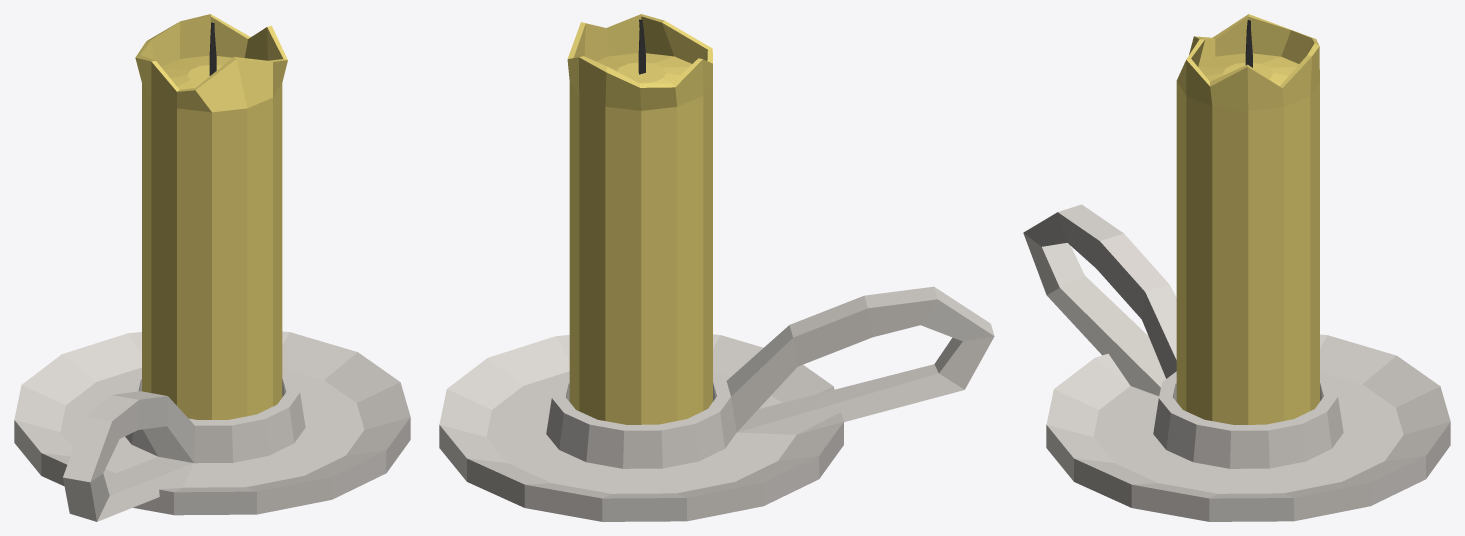
File: candle_short.fbx
3 renders of one model, left to right at view 1: azimuth 30°, elevation 25°; view 2: azimuth 150°, elevation 25°; view 3: azimuth 270°, elevation 25°, orthographic. The views are drawn at different scales.
Visible parts, largest first — view 1: MyCandleShort; view 2: MyCandleShort; view 3: MyCandleShort.
Part boxes in pixels (x1,y1,x2,y2): MyCandleShort: [14, 14, 410, 521]; MyCandleShort: [439, 14, 994, 521]; MyCandleShort: [1023, 14, 1450, 521].
Size of the model in its own units: 329 by 308 by 286.
